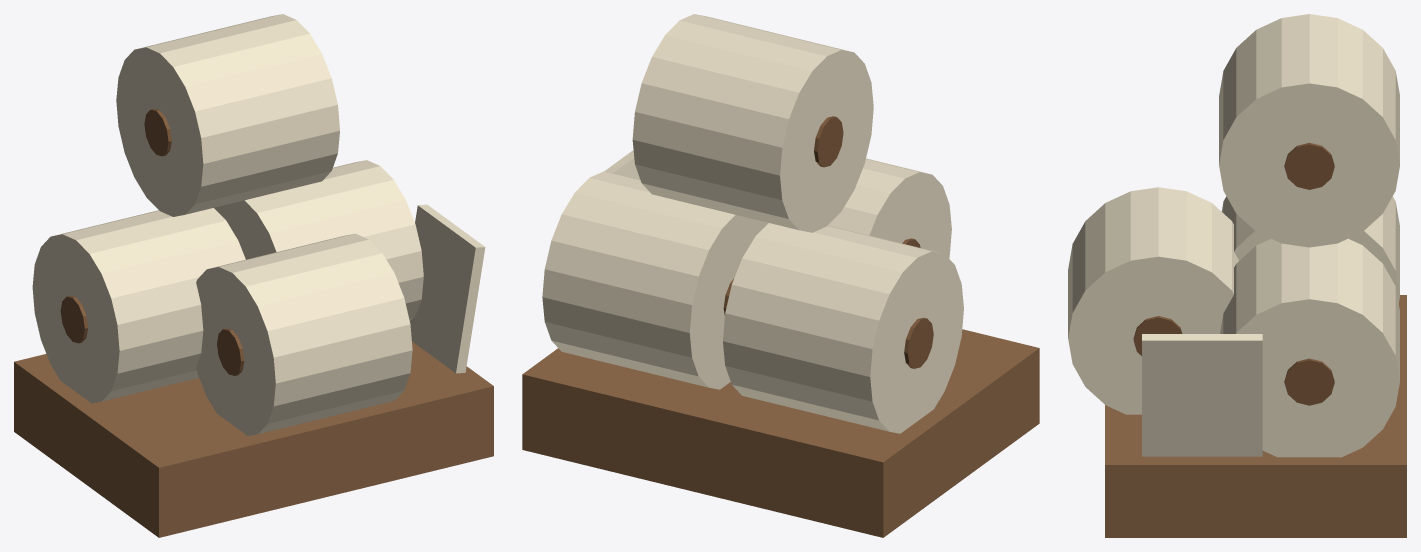
File: context-paper.glb
The picture shows the model from 3 angles, left to right: view 1: azimuth 30°, elevation 25°; view 2: azimuth 150°, elevation 25°; view 3: azimuth 270°, elevation 25°; orthographic projection. The views are drawn at different scales.
Parts seen in each view (by area): view 1: context-paper; view 2: context-paper; view 3: context-paper.
Boxes of the visible parts, box(x1,y1,x2,y2) form: context-paper: box(14, 14, 493, 537); context-paper: box(522, 14, 1039, 537); context-paper: box(1068, 14, 1406, 537).
Size of the model in its own units: 1.23 by 1.33 by 1.01.
